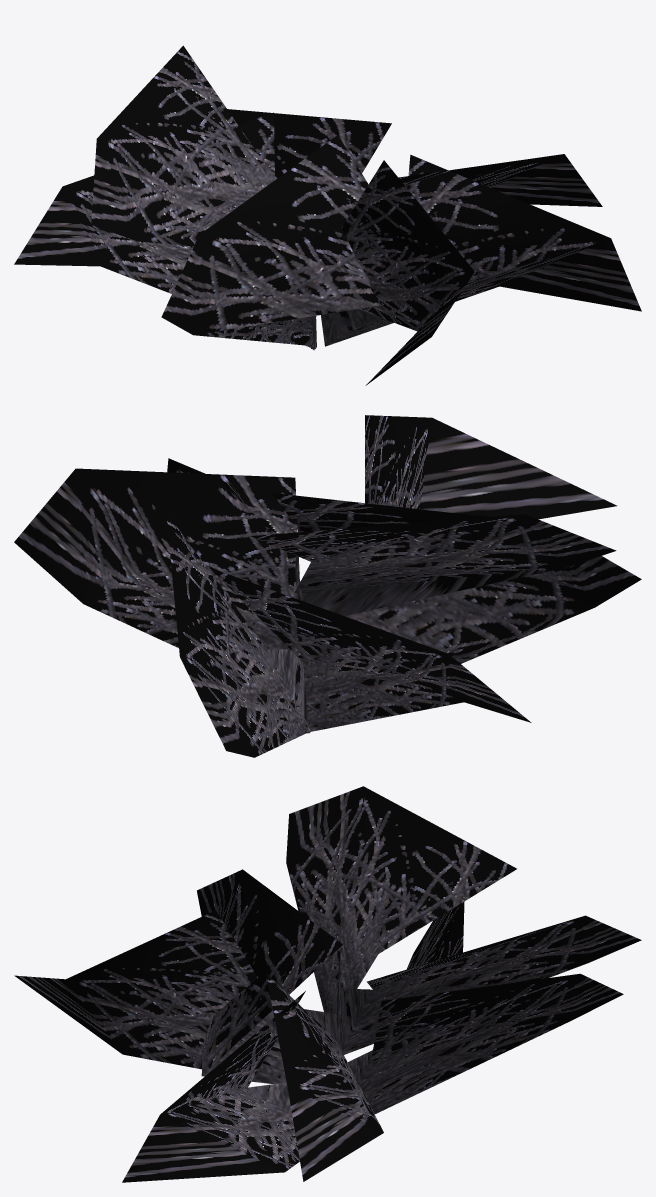
The model's file is bush.fbx.
3 views of the same model, one above another, from view 1: azimuth 30°, elevation 25°; view 2: azimuth 150°, elevation 25°; view 3: azimuth 270°, elevation 25° (orthographic). The views are drawn at different scales.
Visible parts, largest first — view 1: Bush; view 2: Bush; view 3: Bush.
Part boxes in pixels (x1,y1,x2,y2): Bush: [14, 45, 641, 385]; Bush: [14, 415, 641, 757]; Bush: [14, 786, 641, 1182].
Bounding box in the file's own units: 134 × 61.35 × 140.
1 material, 1 textured.
